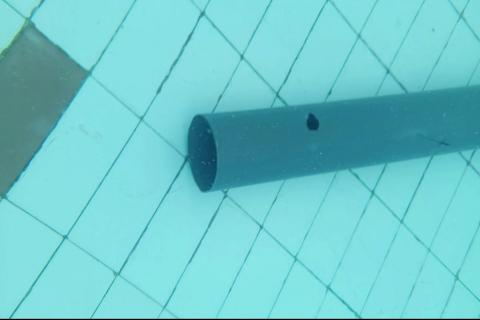kebocoran: (306, 112, 320, 132)
keretakan: (419, 133, 452, 148)
